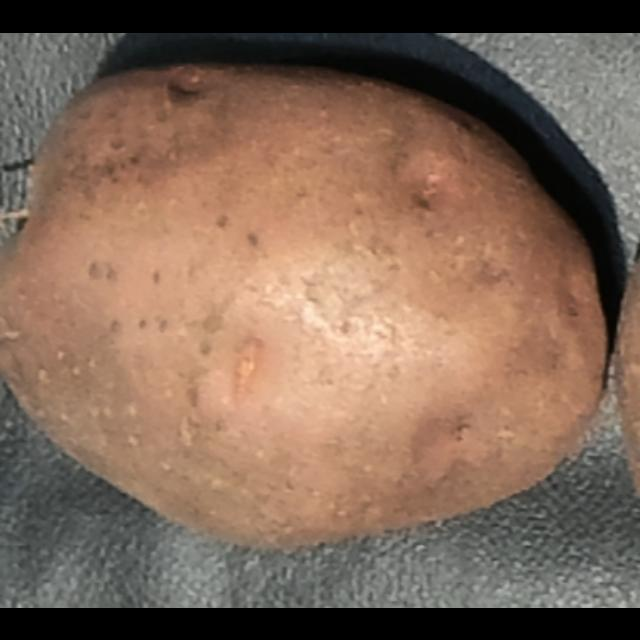Diseased-fungal potato: (0, 32, 612, 554)
